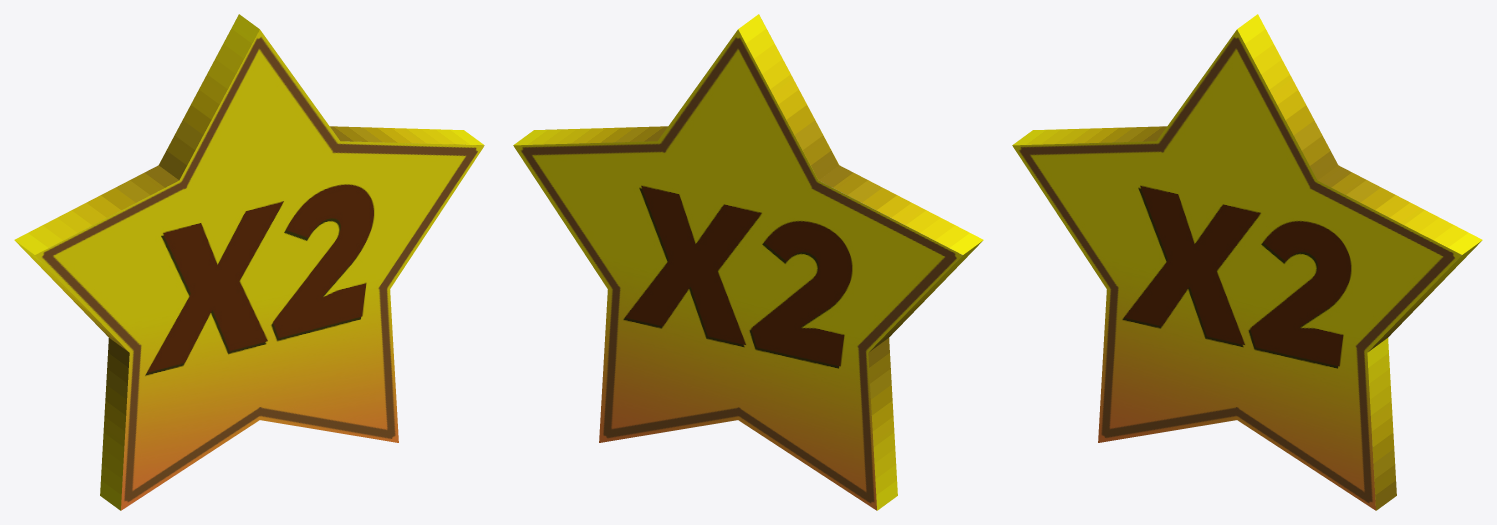
Rendered from star_example.fbx.
3 views of the same model, side by side, from view 1: azimuth 30°, elevation 25°; view 2: azimuth 150°, elevation 25°; view 3: azimuth 330°, elevation 25° (orthographic).
Parts seen in each view (by area): view 1: Circle; view 2: Circle; view 3: Circle.
Part boxes in pixels (left/top/right/bottom): Circle: left=14, top=14, right=484, bottom=510; Circle: left=513, top=14, right=983, bottom=510; Circle: left=1012, top=14, right=1482, bottom=510.
Size of the model in its own units: 190 by 181 by 15.25.
